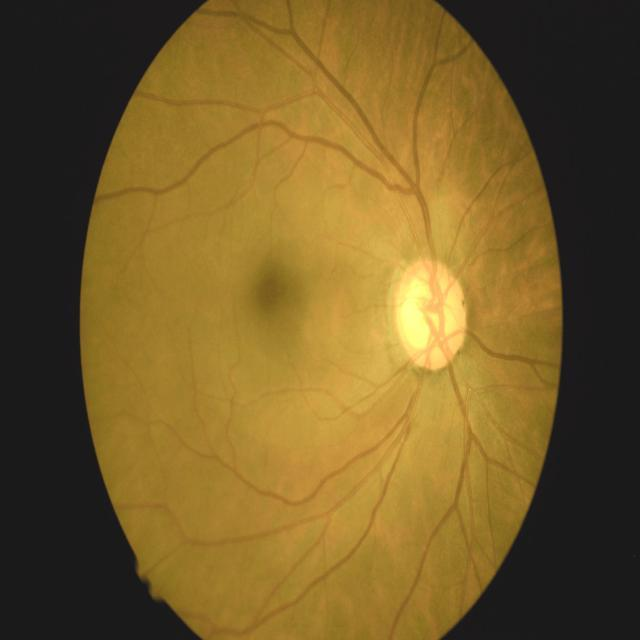cup: (402, 276, 449, 352)
disk: (396, 258, 468, 372)
